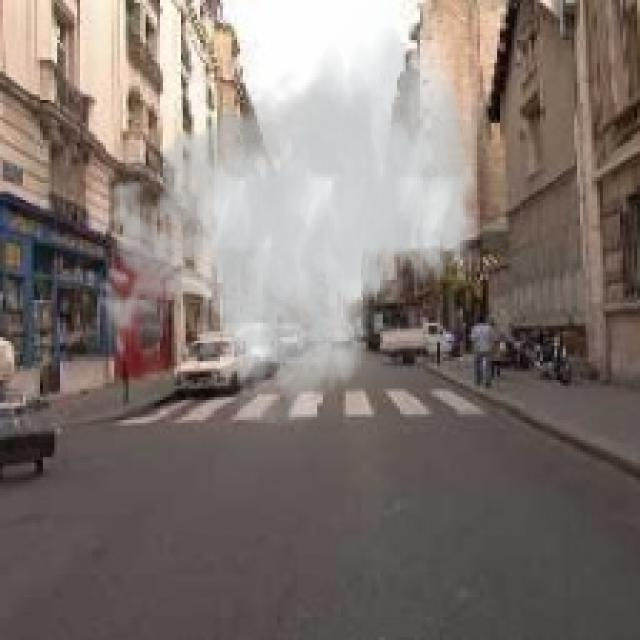smoke: (86, 3, 477, 423)
